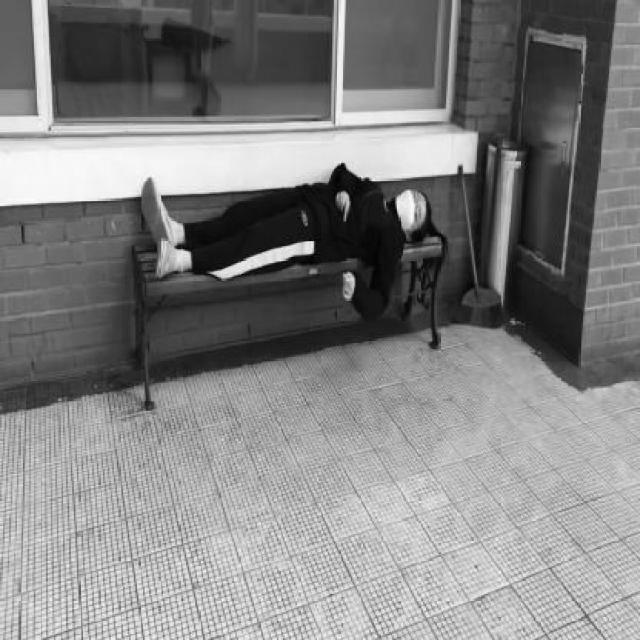person: (139, 160, 432, 322)
